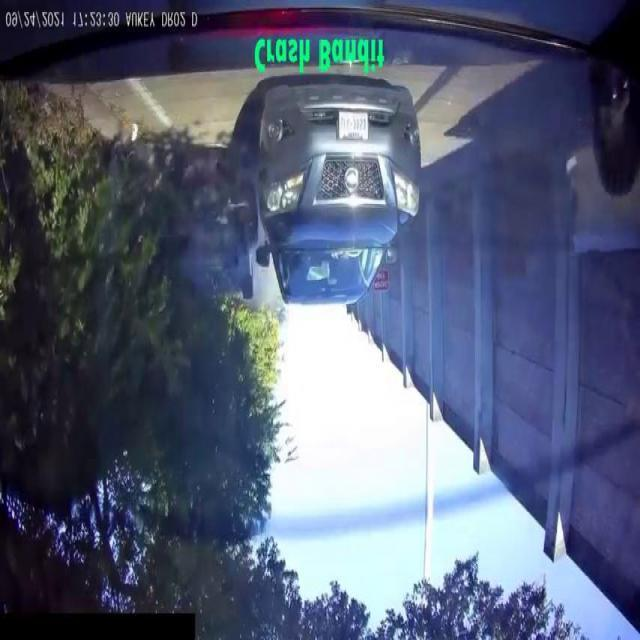severe: (168, 165, 262, 318)
